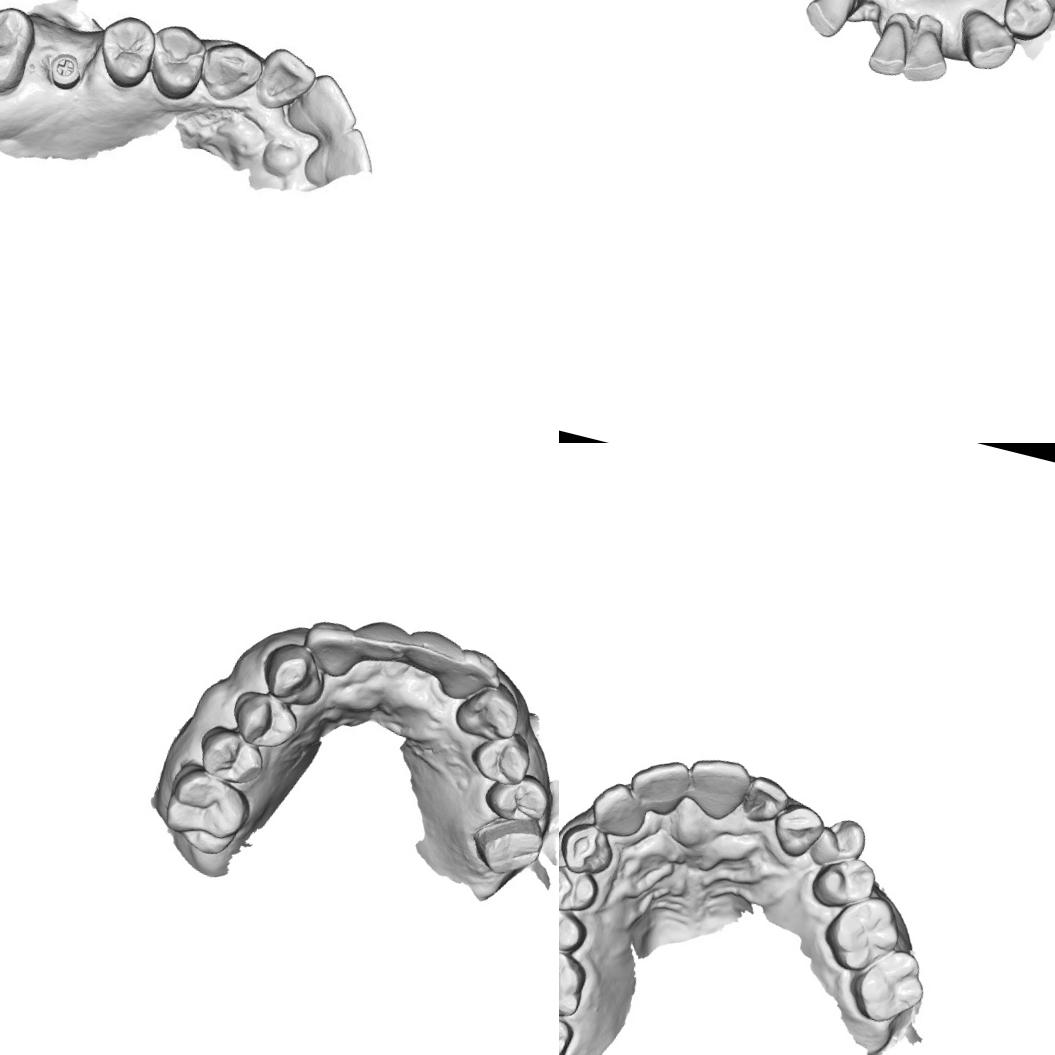canine: (255, 634, 334, 712), (194, 32, 269, 110), (950, 4, 1022, 77), (449, 677, 525, 746), (766, 796, 830, 864), (559, 815, 620, 881)
crown: (463, 804, 550, 884)
implant_plus: (42, 48, 88, 92)
incisor: (298, 115, 384, 203), (284, 66, 368, 146), (677, 750, 754, 826), (250, 41, 322, 122), (622, 750, 694, 820), (584, 776, 652, 843), (296, 614, 362, 681), (442, 642, 503, 709), (898, 24, 956, 90), (350, 614, 412, 672), (402, 624, 464, 681), (863, 14, 916, 80), (737, 771, 793, 829), (798, 0, 859, 42)
molar: (155, 758, 258, 862), (815, 884, 910, 982), (841, 938, 934, 1032), (0, 0, 42, 100), (559, 939, 592, 1022)
premolar: (139, 17, 213, 106), (90, 8, 164, 96), (223, 684, 304, 756), (190, 720, 271, 789), (805, 847, 880, 918), (480, 764, 555, 827), (464, 725, 536, 790), (806, 809, 872, 875), (994, 0, 1055, 45), (559, 858, 603, 918), (559, 902, 590, 957)
